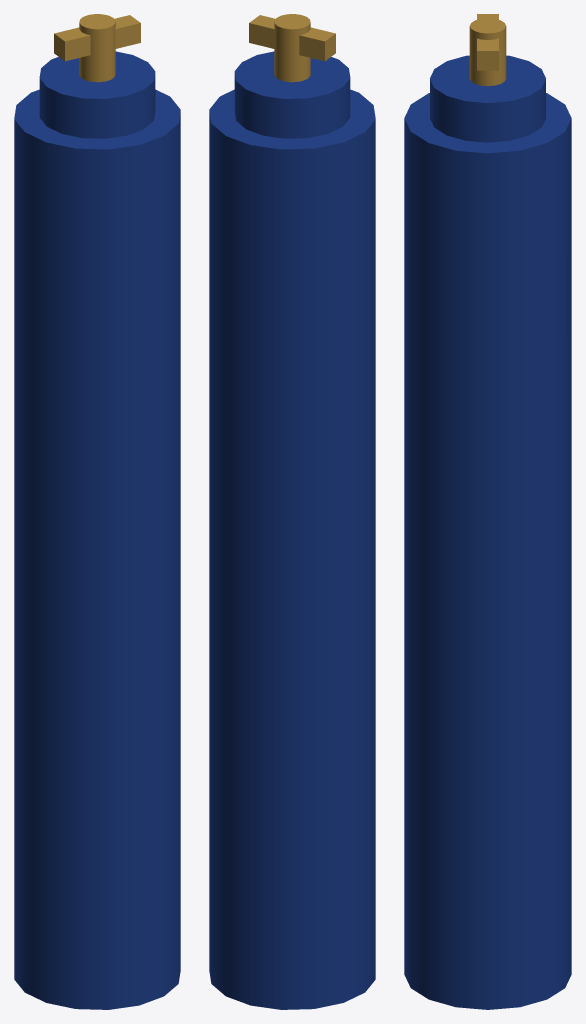
The model's file is prop_oxygen_cylinder.glb.
The picture shows the model from 3 angles, left to right: view 1: azimuth 30°, elevation 25°; view 2: azimuth 150°, elevation 25°; view 3: azimuth 270°, elevation 25°; orthographic projection.
Visible parts, largest first — view 1: prop_oxygen_cylinder; view 2: prop_oxygen_cylinder; view 3: prop_oxygen_cylinder.
Part boxes in pixels (bbox=[...]): prop_oxygen_cylinder: bbox=[14, 14, 180, 1009]; prop_oxygen_cylinder: bbox=[209, 14, 375, 1009]; prop_oxygen_cylinder: bbox=[404, 14, 571, 1009].
Size of what is drawn, in the model's own units: 0.23 by 1.44 by 0.23.
